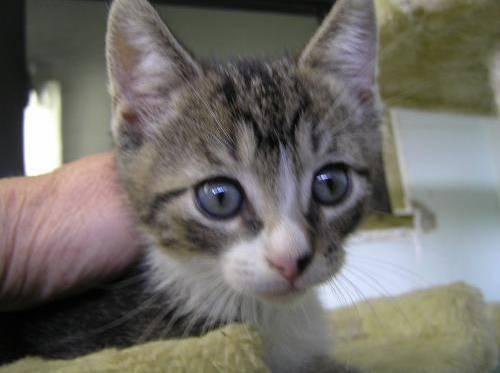cat: (0, 0, 388, 372)
